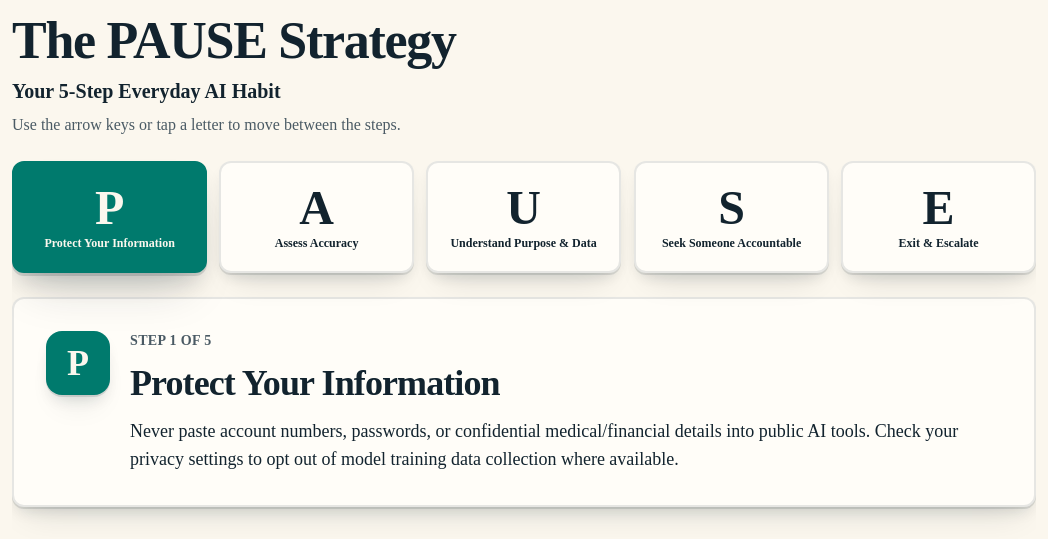
Test: PAUSE Strategy in en › shows every step's title and full text when chosen
Click the tab "P Protect Your Information".
click(110, 217)  # box [12,161,207,273]
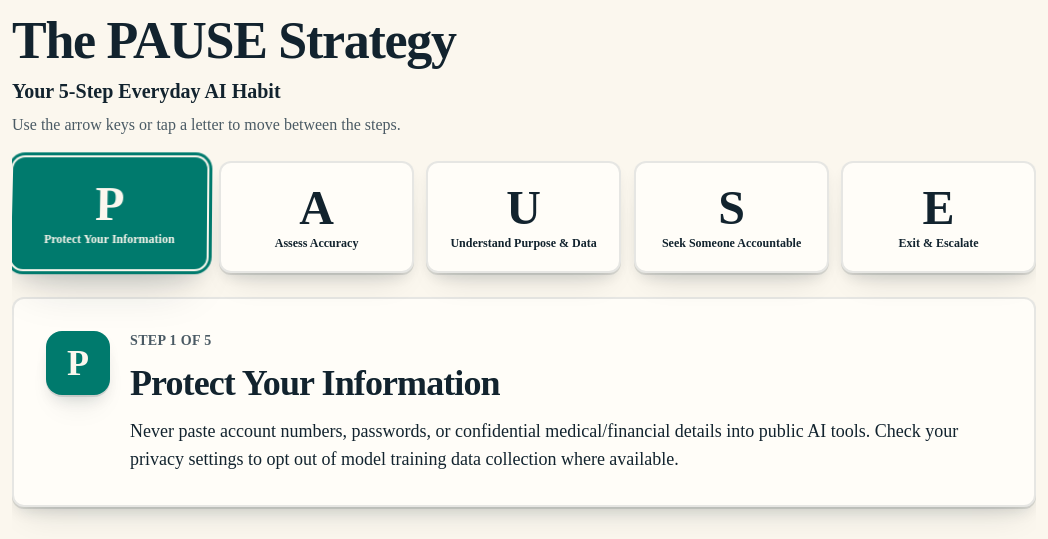
expect the heading "Protect Your Information" is shown: met, box [130,363,500,403]
expect the text "Never paste account numbers, passwords, or confidential medical/financial details into public AI tools. Check your priva" is shown: met, box [130,421,958,469]
Click the tab "A Assess Accuracy".
click(317, 217)  # box [219,161,414,273]
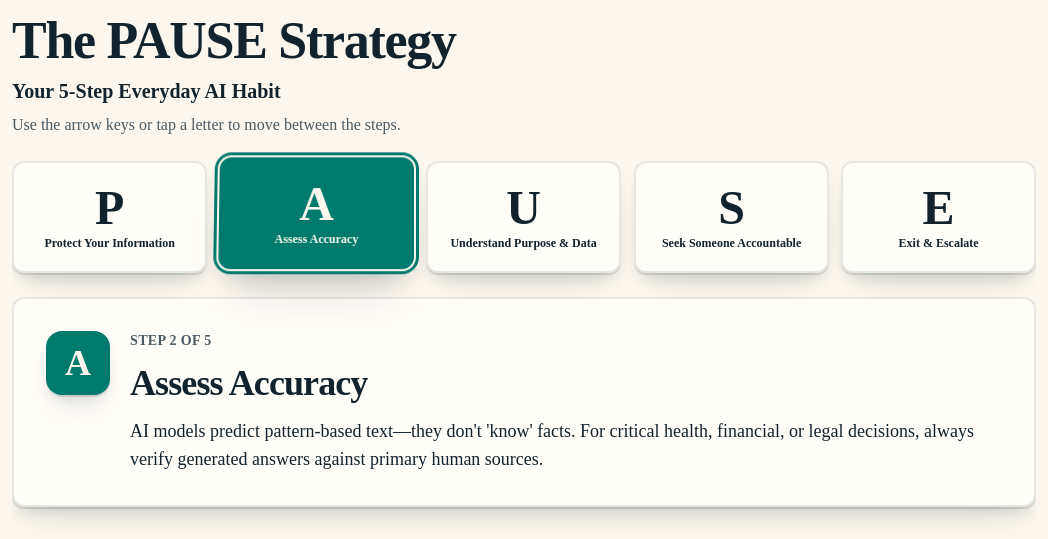
expect the heading "Assess Accuracy" is shown: met, box [130,363,368,403]
expect the text "AI models predict pattern-based text—they don't 'know' facts. For critical health, financial, or legal decisions, always" is shown: met, box [130,421,974,469]
Click the tab "U Understand Purpose & Data".
click(524, 217)  # box [426,161,622,273]
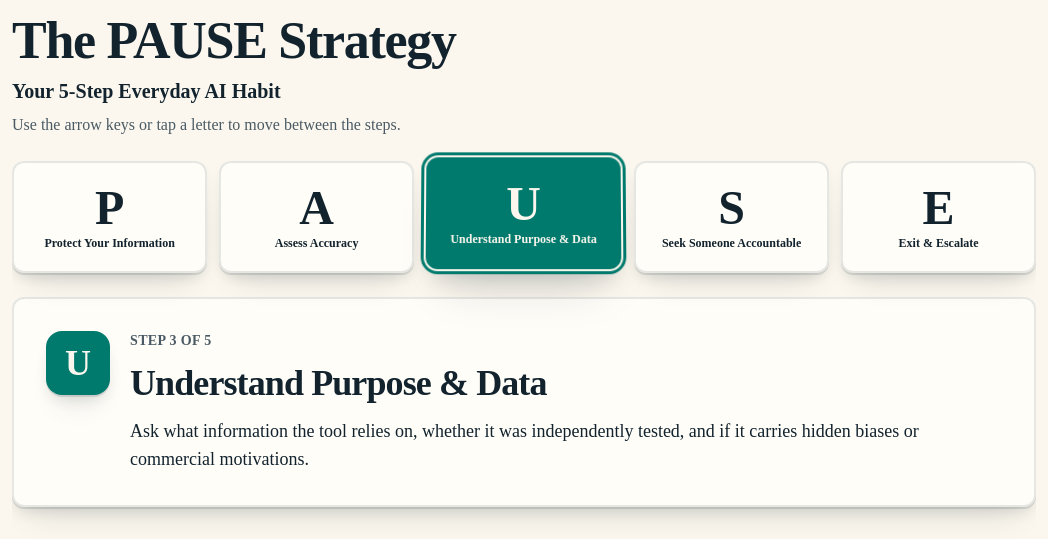
expect the heading "Understand Purpose & Data" is shown: met, box [130,363,546,403]
expect the text "Ask what information the tool relies on, whether it was independently tested, and if it carries hidden biases or commerc" is shown: met, box [130,421,919,469]
Click the tab "S Seek Someone Accountable".
click(731, 217)  # box [634,161,829,273]
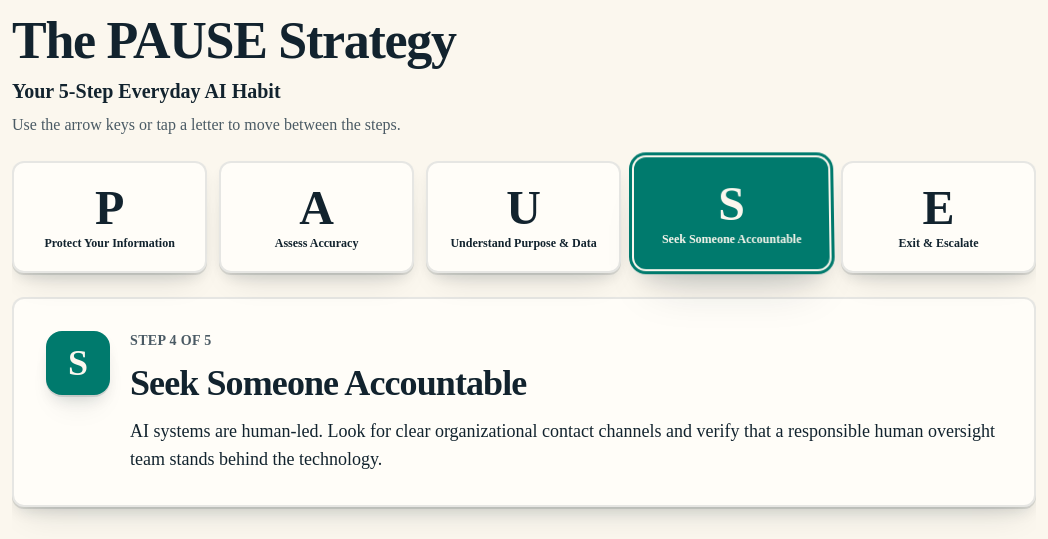
expect the heading "Seek Someone Accountable" is shown: met, box [130,363,526,403]
expect the text "AI systems are human-led. Look for clear organizational contact channels and verify that a responsible human oversight t" is shown: met, box [130,421,995,469]
Click the tab "E Exit & Escalate".
click(938, 217)  # box [841,161,1036,273]
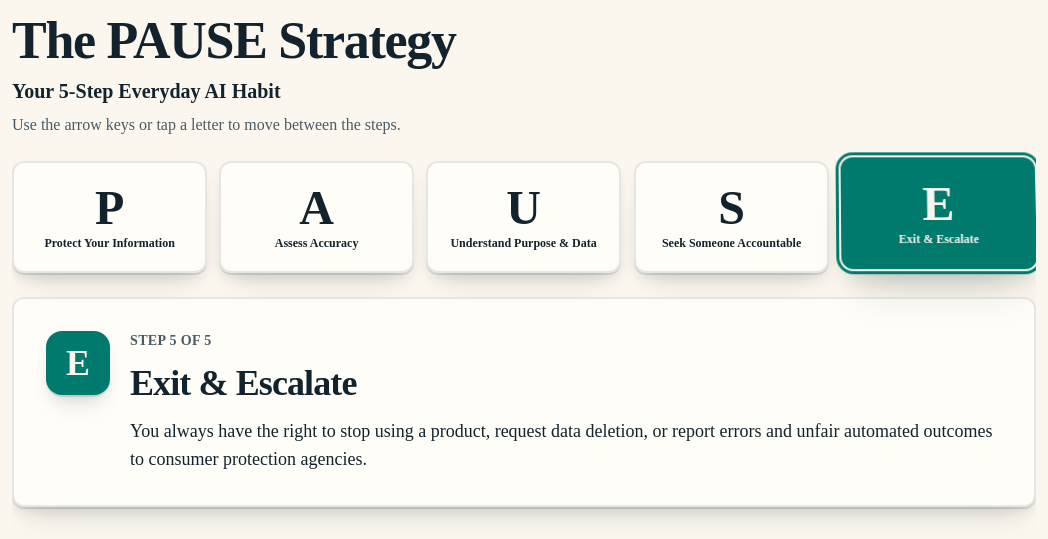
expect the heading "Exit & Escalate" is shown: met, box [130,363,356,403]
expect the text "You always have the right to stop using a product, request data deletion, or report errors and unfair automated outcomes" is shown: met, box [130,421,992,469]
